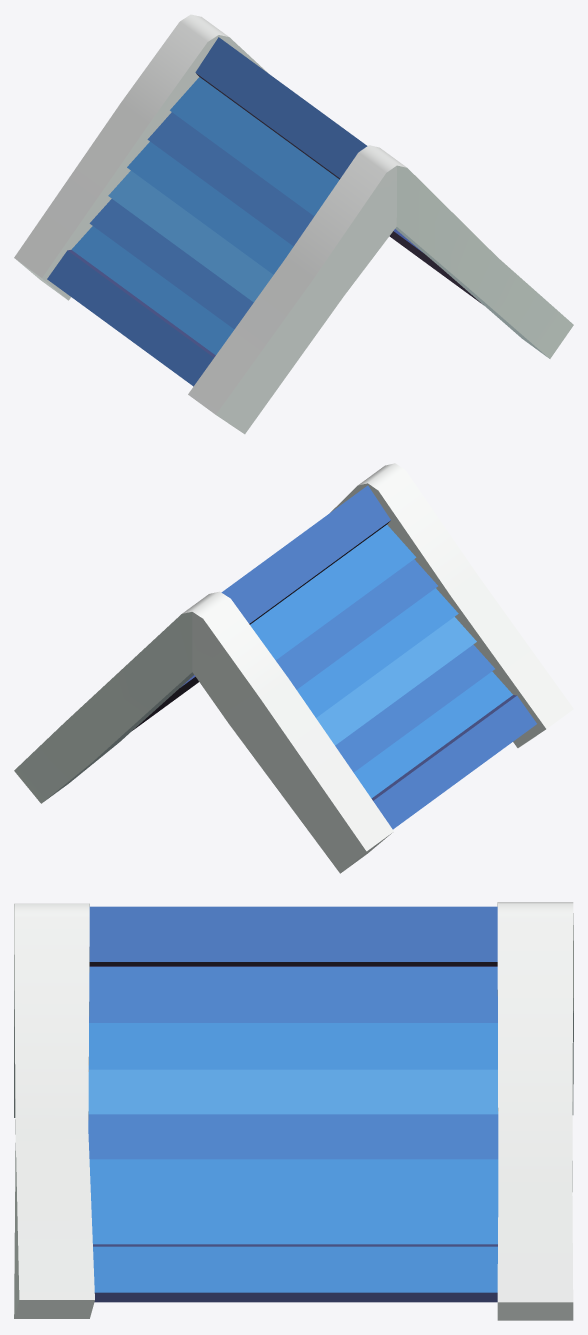
File: Roof03_Blue_White.glb
3 views of the same model, one above another, from view 1: azimuth 30°, elevation 25°; view 2: azimuth 150°, elevation 25°; view 3: azimuth 270°, elevation 25° (orthographic). The views are drawn at different scales.
Visible parts, largest first — view 1: Roof03_Blue_White; view 2: Roof03_Blue_White; view 3: Roof03_Blue_White.
Boxes of the visible parts, <box> form: Roof03_Blue_White: <box>14,14,573,434</box>; Roof03_Blue_White: <box>14,463,573,873</box>; Roof03_Blue_White: <box>14,902,573,1320</box>.
Size of the model in its own units: 2.41 by 1.48 by 2.38.
1 material, 1 textured.
